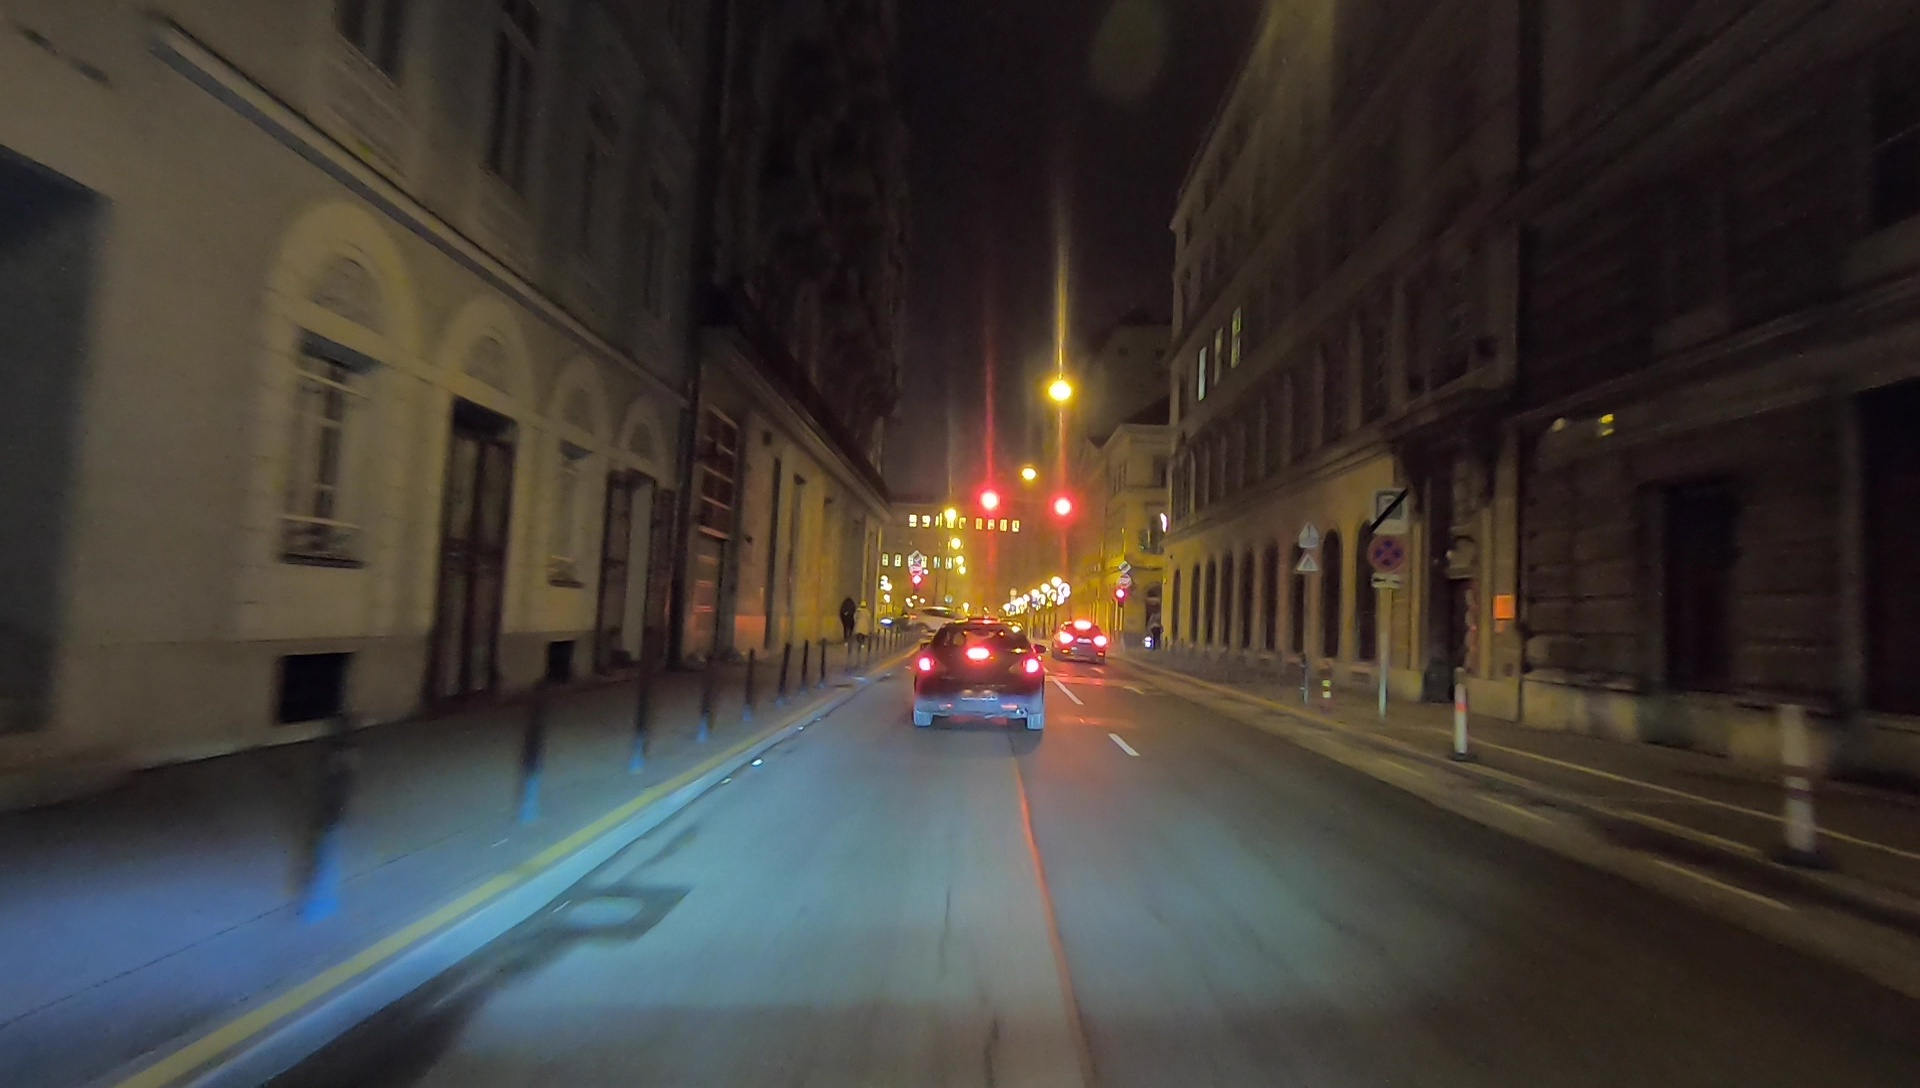person: (838, 591, 856, 645)
